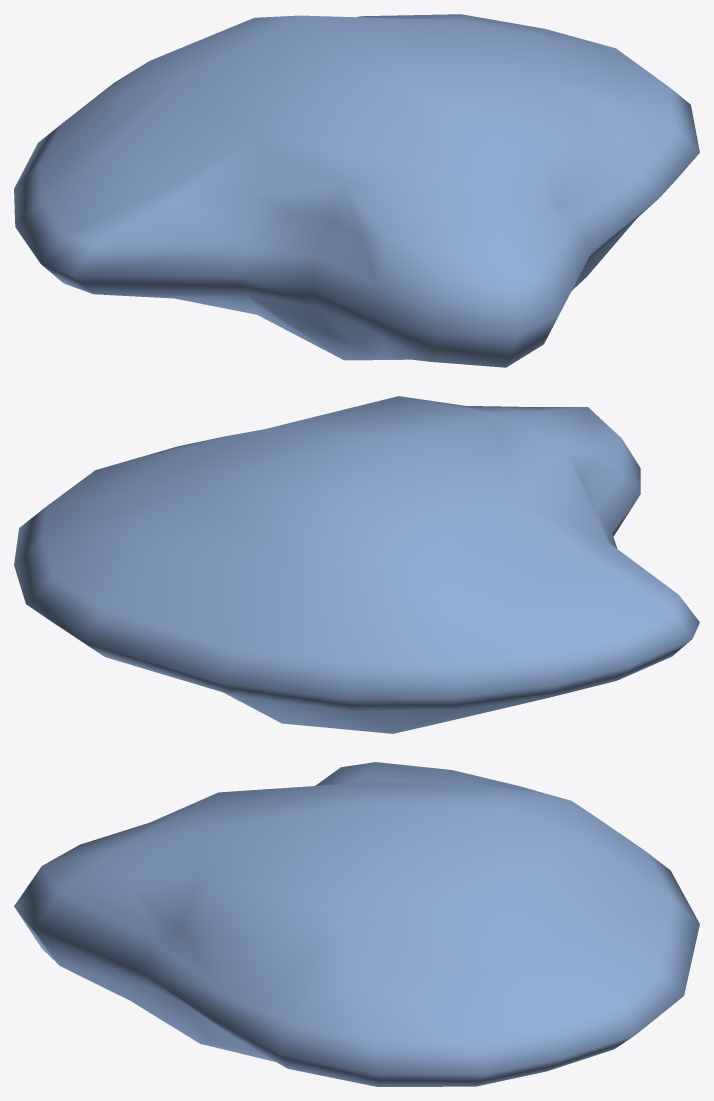
Rendered from svrObjectFanShellG.FBX.
The picture shows the model from 3 angles, top to bottom: view 1: azimuth 30°, elevation 25°; view 2: azimuth 150°, elevation 25°; view 3: azimuth 270°, elevation 25°; orthographic projection. The views are drawn at different scales.
Parts seen in each view (by area): view 1: svrObjectFanShellG; view 2: svrObjectFanShellG; view 3: svrObjectFanShellG.
Part boxes in pixels (<box>): svrObjectFanShellG: <box>14,14,699,367</box>; svrObjectFanShellG: <box>14,396,699,733</box>; svrObjectFanShellG: <box>14,762,699,1086</box>.
Bounding box in the file's own units: 0.5206 × 0.1899 × 0.5036.
